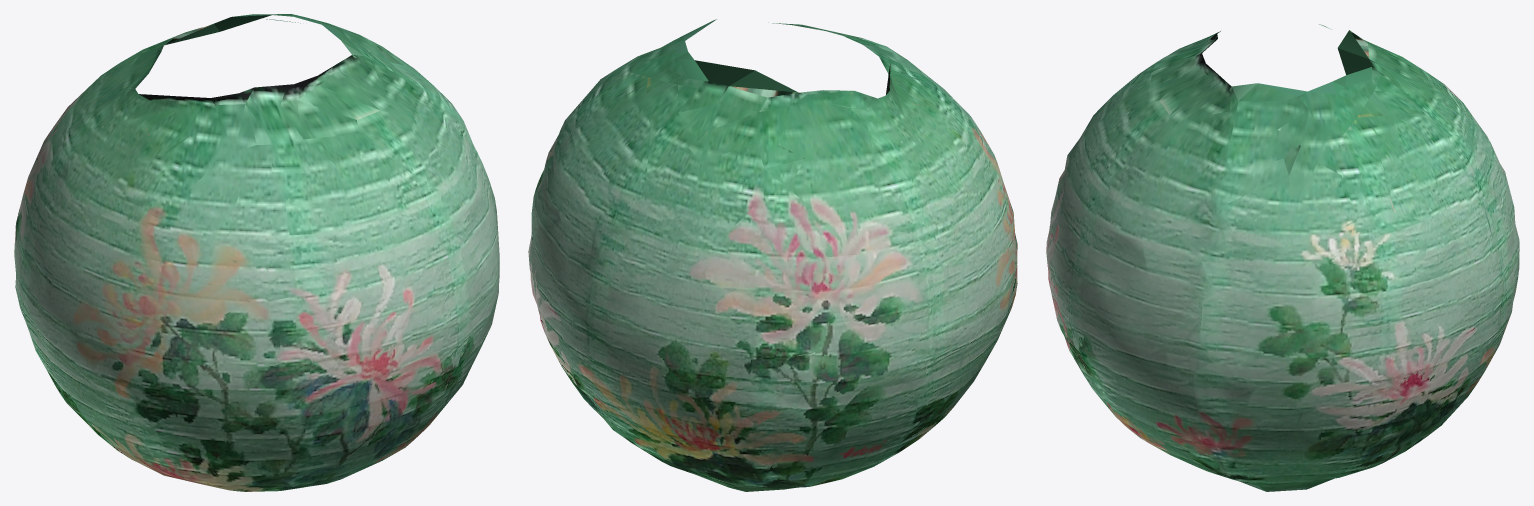
Rendered from AS1 Bobbi Chrysanthemum.glb.
3 views of the same model, side by side, from view 1: azimuth 30°, elevation 25°; view 2: azimuth 150°, elevation 25°; view 3: azimuth 270°, elevation 25° (orthographic). The views are drawn at different scales.
Size of the model in its own units: 1000 by 964 by 1000.
Materials: 1 (1 with a texture image).
